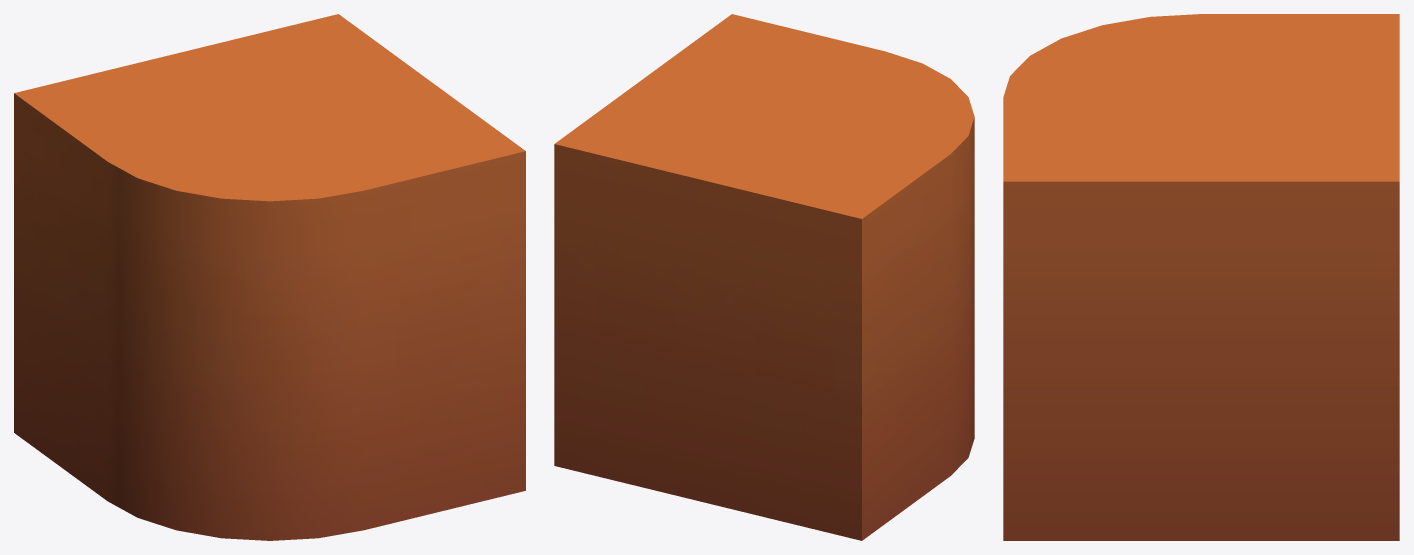
The model's file is terrain_tall_curved.glb.
3 renders of one model, left to right at view 1: azimuth 30°, elevation 25°; view 2: azimuth 150°, elevation 25°; view 3: azimuth 270°, elevation 25°, orthographic. The views are drawn at different scales.
Parts seen in each view (by area): view 1: terrain_tall_curved_Cube.15122; view 2: terrain_tall_curved_Cube.15122; view 3: terrain_tall_curved_Cube.15122.
Part boxes in pixels (left/top/right/bottom): terrain_tall_curved_Cube.15122: left=14, top=14, right=525, bottom=540; terrain_tall_curved_Cube.15122: left=554, top=14, right=974, bottom=540; terrain_tall_curved_Cube.15122: left=1003, top=14, right=1399, bottom=540.
Size of the model in its own units: 2 by 2 by 2.
Materials: 1 (1 with a texture image).
